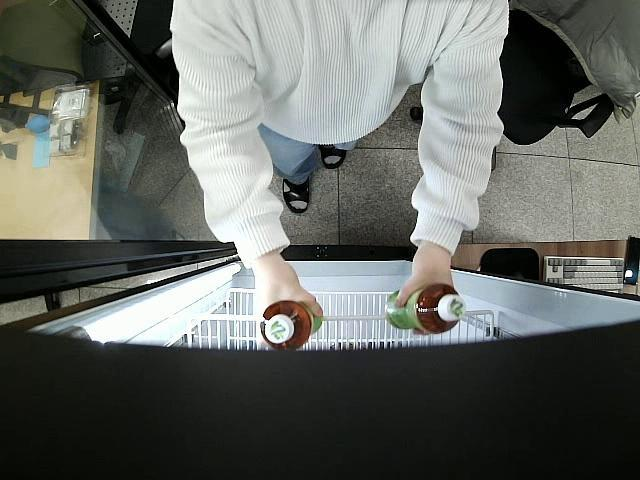19_17cha: (386, 282, 466, 335), (261, 296, 324, 350)
